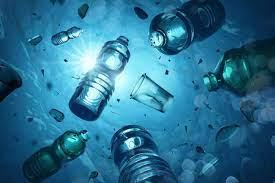Plastic: (60, 26, 134, 126), (138, 2, 240, 59), (12, 122, 102, 180), (106, 112, 179, 181)
